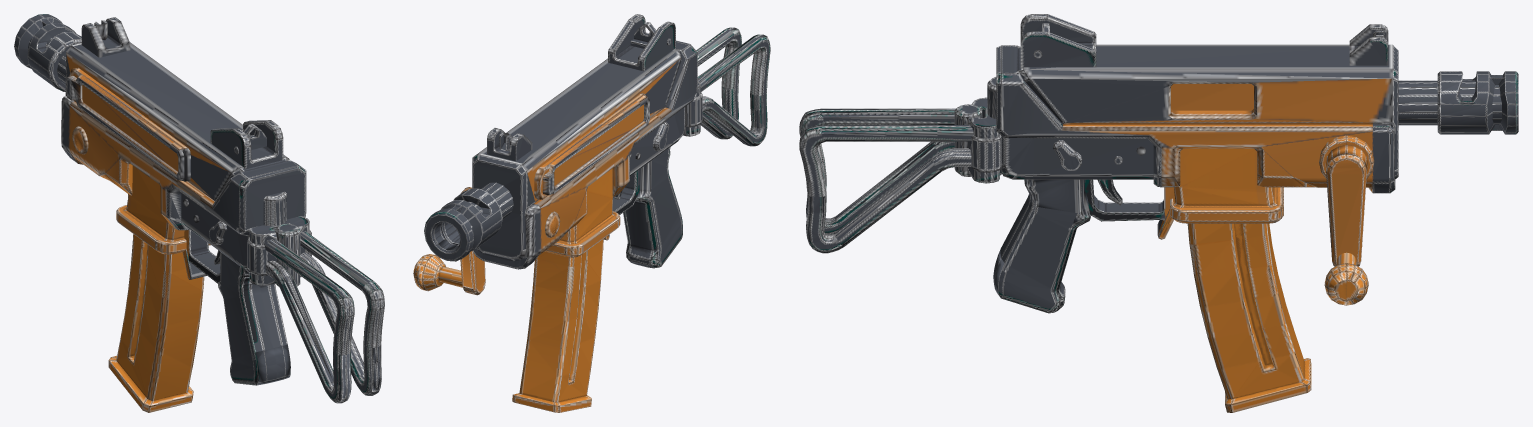
The model's file is rafale.glb.
3 renders of one model, left to right at view 1: azimuth 30°, elevation 25°; view 2: azimuth 150°, elevation 25°; view 3: azimuth 270°, elevation 25°, orthographic. The views are drawn at different scales.
Visible parts, largest first — view 1: Body, Mag; view 2: Body, Mag; view 3: Body, Mag.
Part boxes in pixels (left/top/right/bottom): Body: left=14, top=14, right=384, bottom=403; Mag: left=108, top=234, right=204, bottom=412; Body: left=413, top=14, right=770, bottom=295; Mag: left=512, top=239, right=603, bottom=412; Body: left=799, top=14, right=1518, bottom=313; Mag: left=1187, top=223, right=1311, bottom=412.
Size of the model in its own units: 0.1545 by 0.3403 by 0.5888.
1 material, 1 textured.
